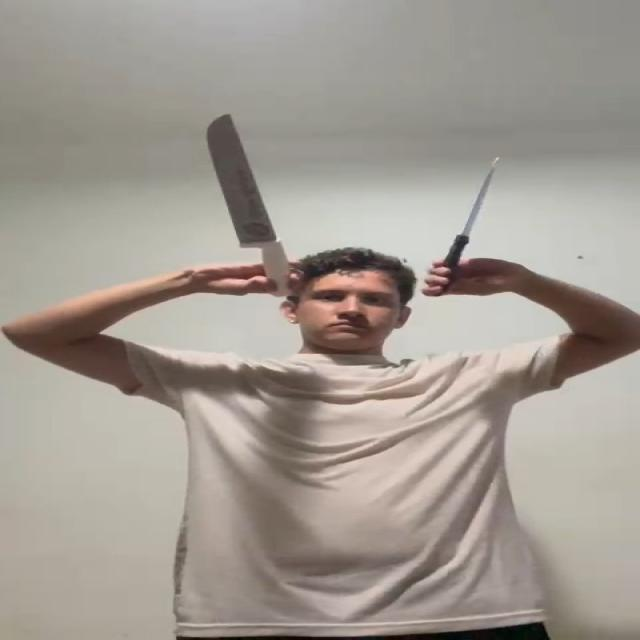knife: (208, 114, 272, 240), (458, 158, 497, 238)
